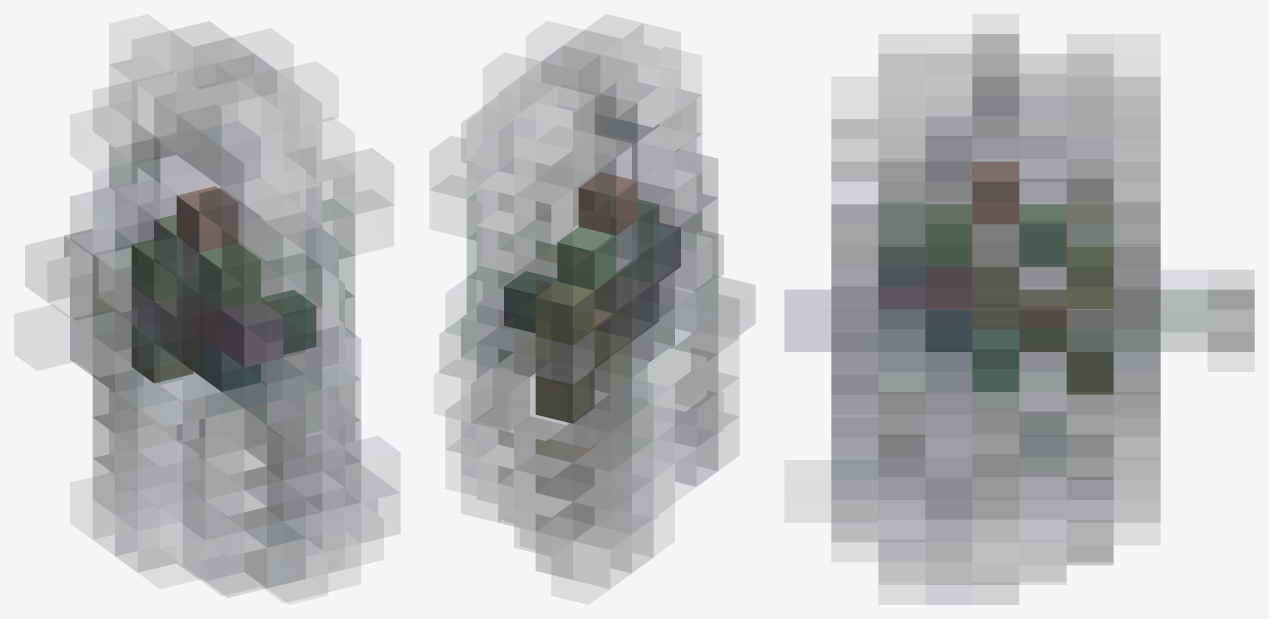
The model's file is iter_15.obj.
The picture shows the model from 3 angles, left to right: view 1: azimuth 30°, elevation 25°; view 2: azimuth 150°, elevation 25°; view 3: azimuth 270°, elevation 25°; orthographic projection. The views are drawn at different scales.
Visible parts, largest first — view 1: iter_15; view 2: iter_15; view 3: iter_15.
Part boxes in pixels (<box>): iter_15: <box>25,21,399,601</box>; iter_15: <box>430,23,754,588</box>; iter_15: <box>785,34,1254,604</box>.
Size of the model in its own units: 0.8 by 1.2 by 1.
